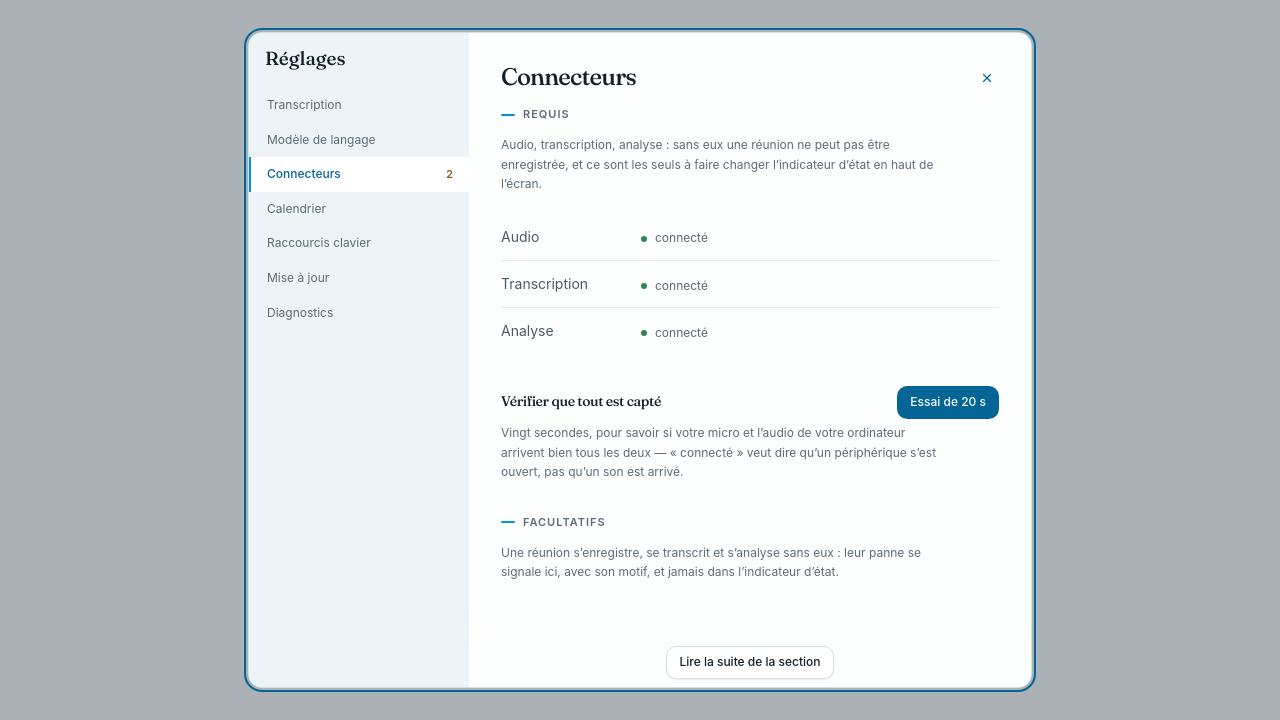
Test: the printed keyboard is a view of the table the matcher uses › the sentence names exactly the keys that survive an editable
Click the button "Raccourcis clavier" at x=359, y=244, box [249,226,469,261]
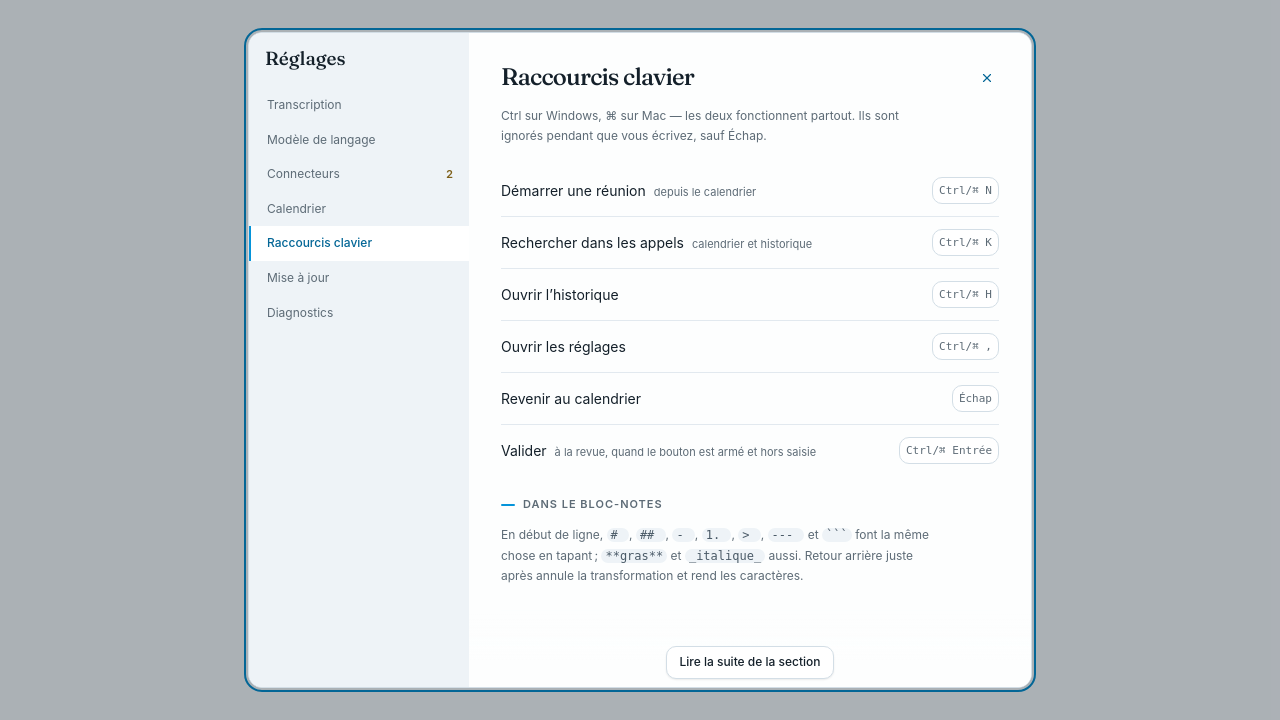
Expected: the text "ignorés pendant que vous écrivez" shows "Échap", [728,128,763,142]
